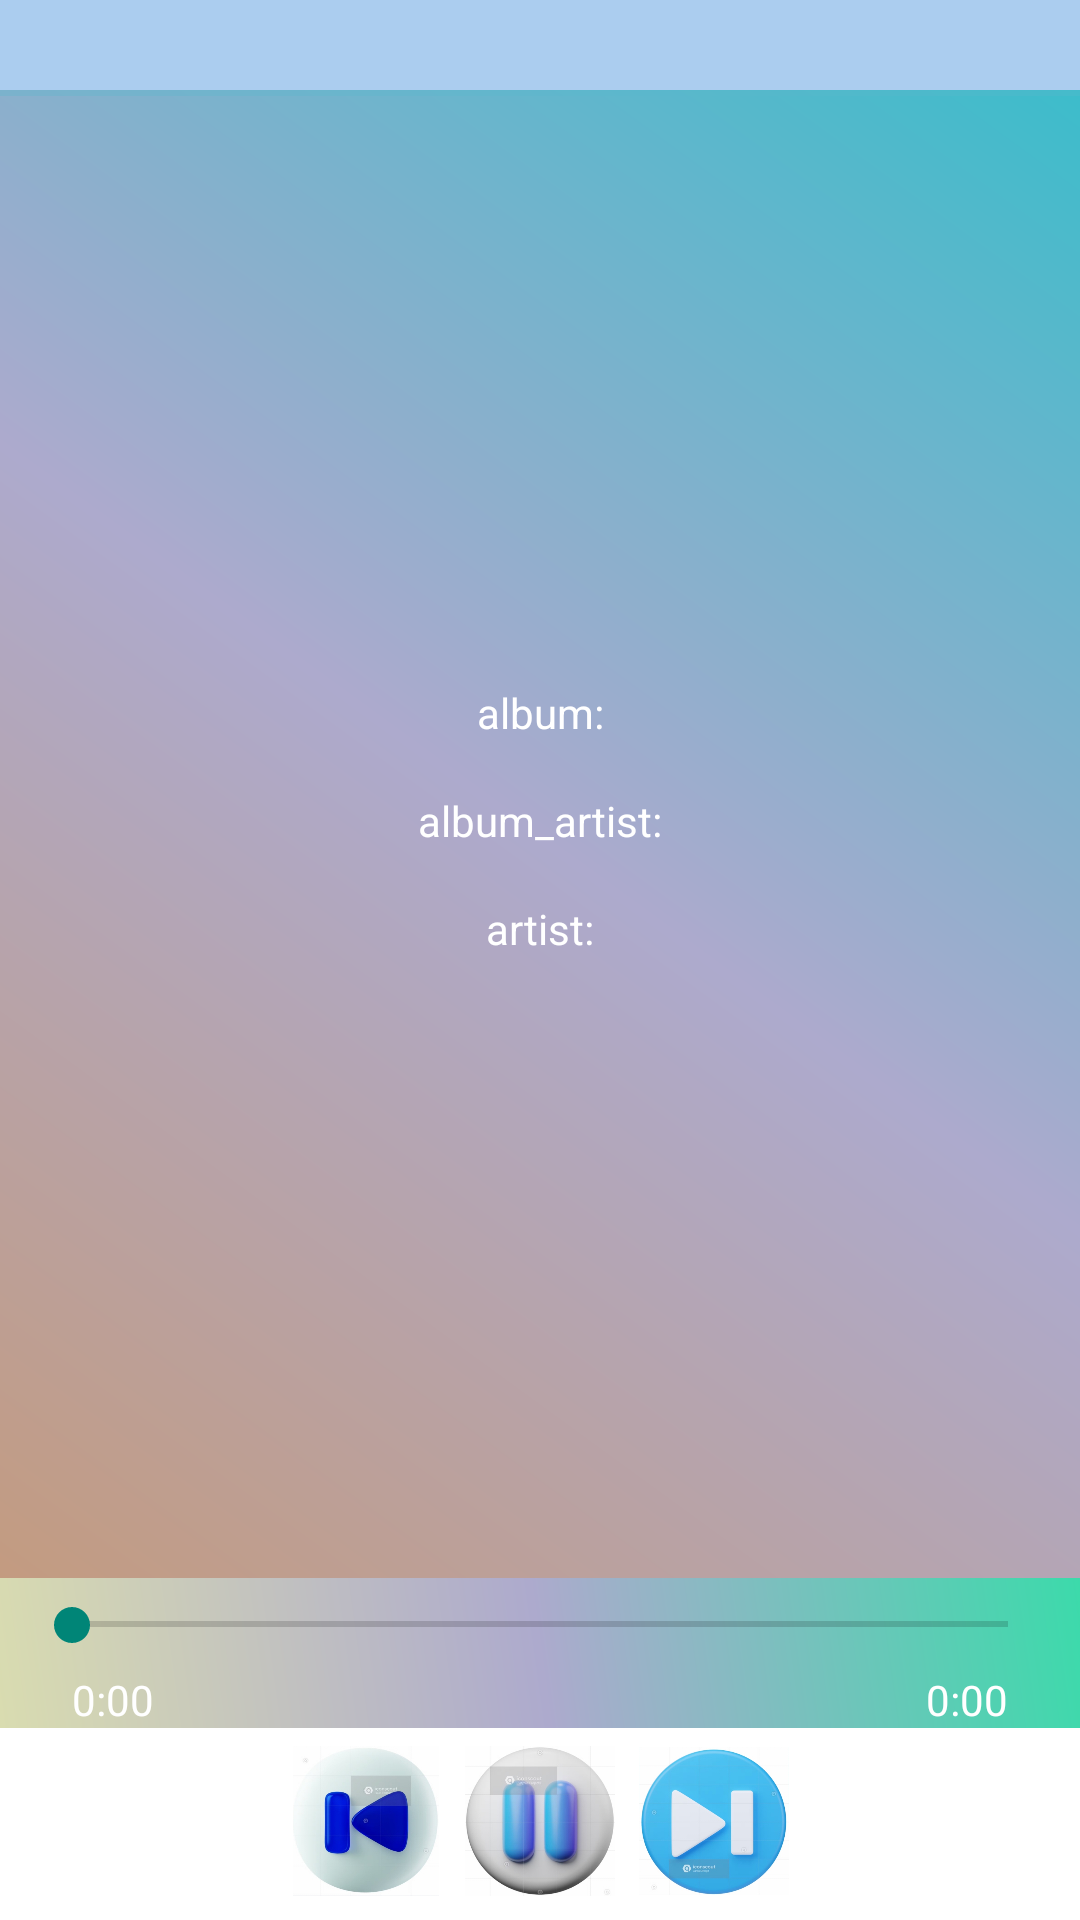

Named icons in this screenshot (1080px×1920px) and their centers, (x=x, y=y):
next: (x=714, y=1821)
pause: (x=540, y=1821)
prev: (x=370, y=1821)
